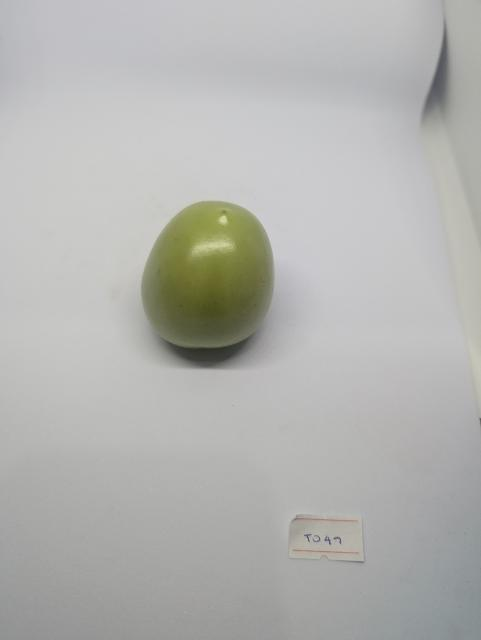green: (138, 200, 277, 350)
